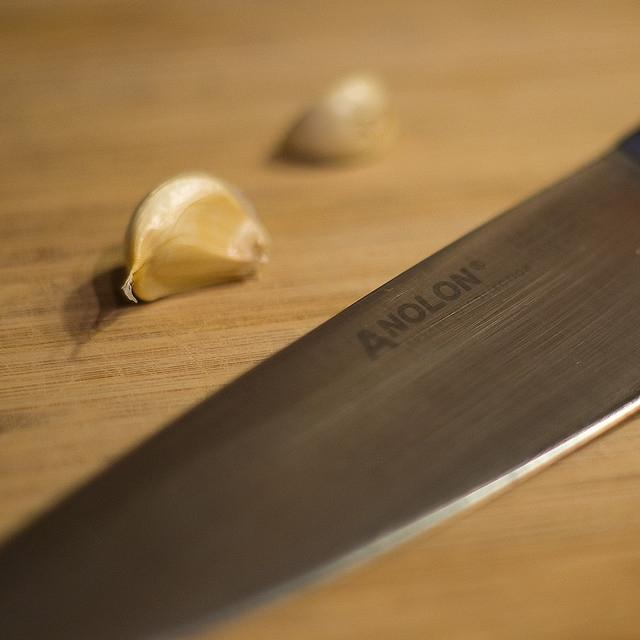garlic: (122, 172, 270, 304), (276, 76, 401, 172)
